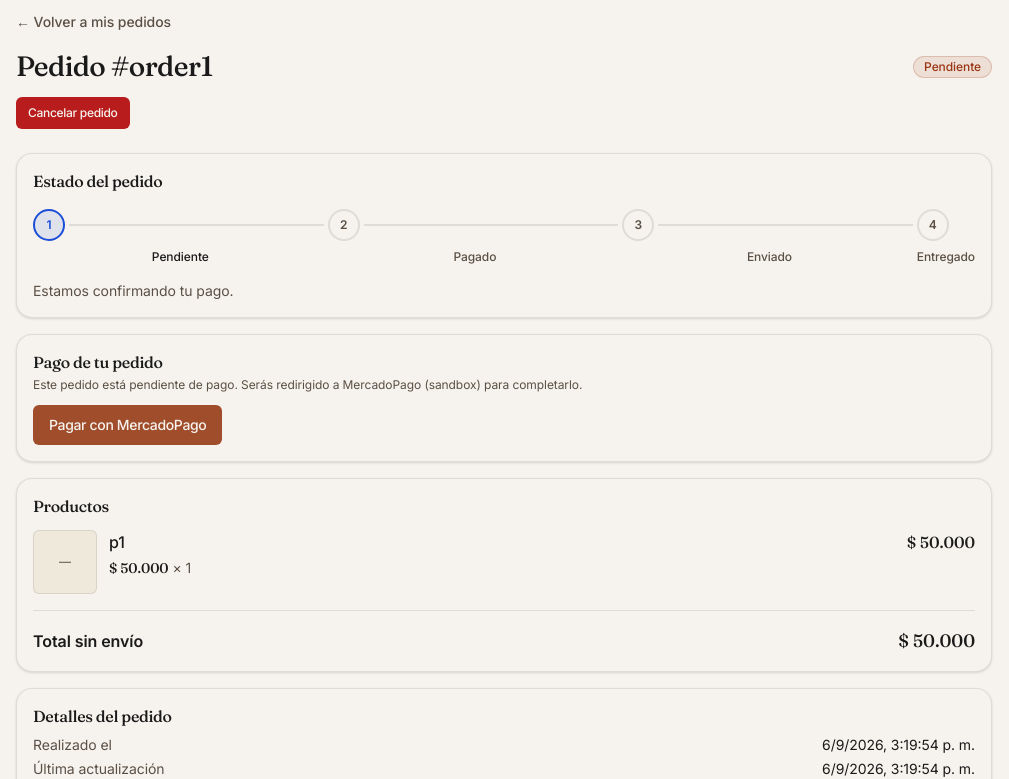
it: OrderDetailPage › confirma la cancelación con un mensaje accesible una vez que el pedido queda cancelado
This screenshot has width=1009, height=779.
Step 1. Click the button "Cancelar pedido" → (73, 113), box [16,97,130,129]
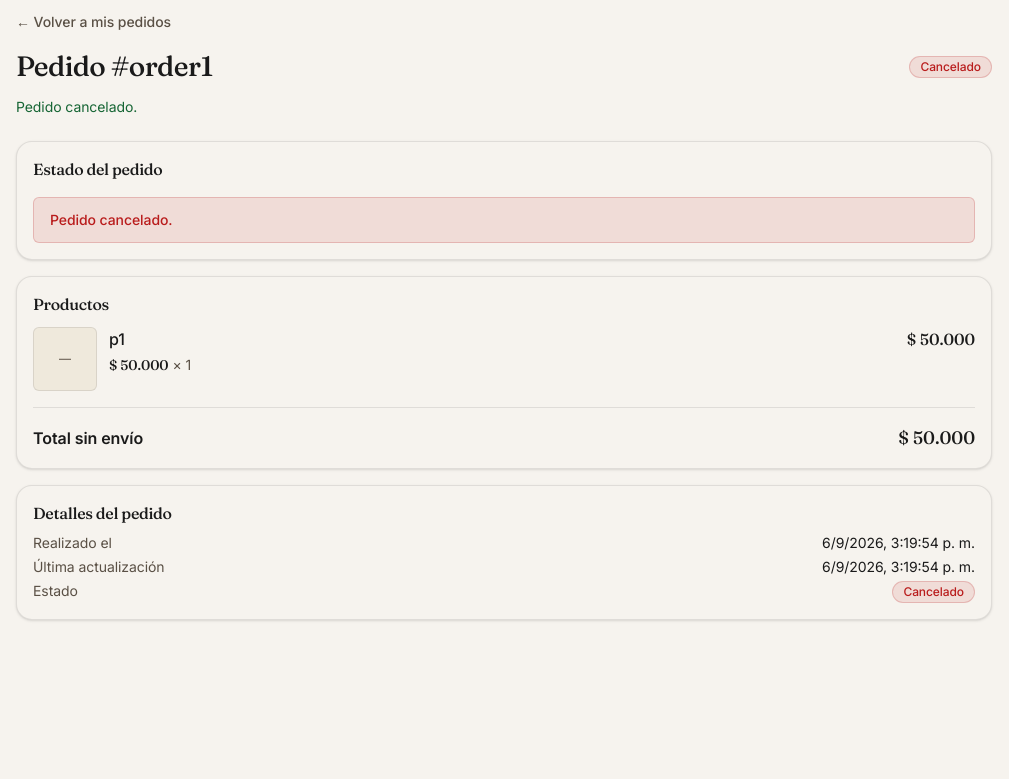
Result: the message shows "Pedido cancelado" at [16,98,137,115]
Result: the button "Cancelar pedido" is gone
